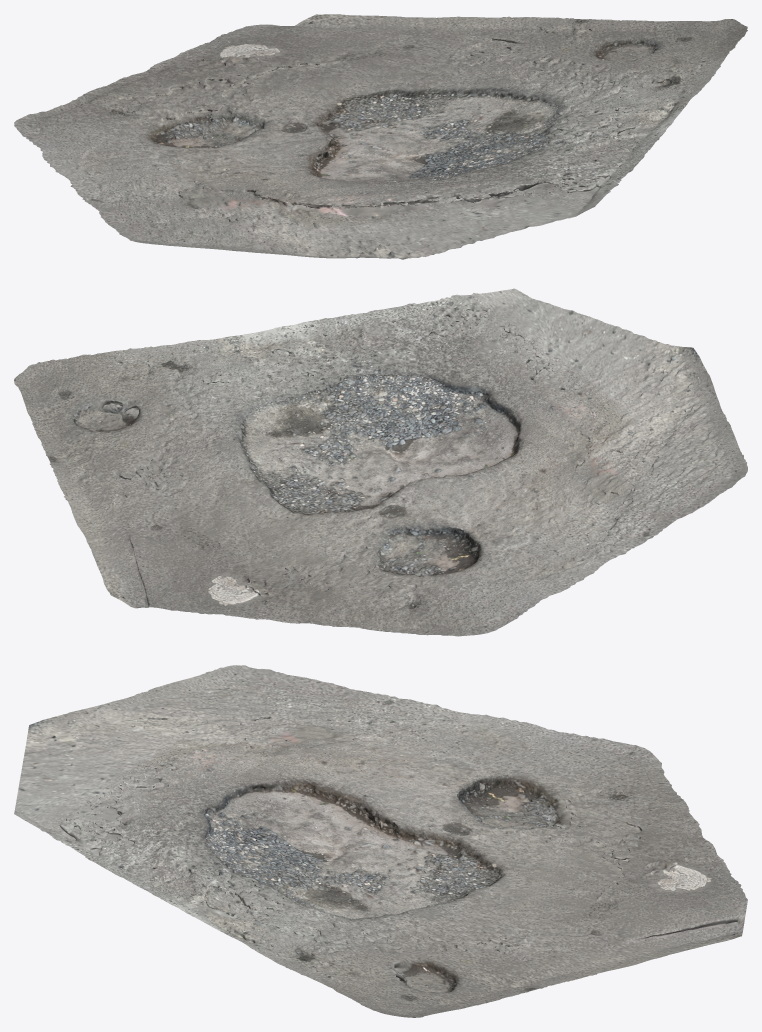
Rendered from road_06.glb.
The picture shows the model from 3 angles, top to bottom: view 1: azimuth 30°, elevation 25°; view 2: azimuth 150°, elevation 25°; view 3: azimuth 270°, elevation 25°; orthographic projection. The views are drawn at different scales.
Visible parts, largest first — view 1: Object_2, Object_3; view 2: Object_2, Object_3; view 3: Object_2, Object_3.
Part boxes in pixels (x1=…): Object_2: x1=14, y1=14, x2=747, y2=259; Object_3: x1=215, y1=24, x2=627, y2=234; Object_2: x1=14, y1=289, x2=747, y2=636; Object_3: x1=117, y1=288, x2=594, y2=615; Object_2: x1=14, y1=665, x2=747, y2=1017; Object_3: x1=14, y1=778, x2=746, y2=943.
Size of the model in its own units: 7.05 by 0.8808 by 6.31.
Materials: 1 (1 with a texture image).
